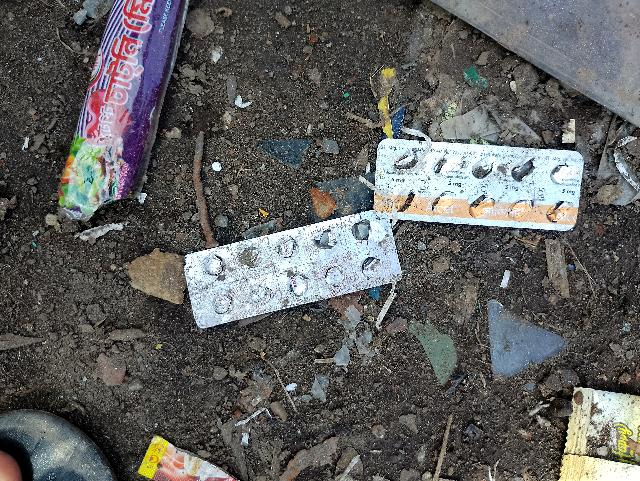medicine: (170, 189, 410, 342), (366, 140, 588, 230)
